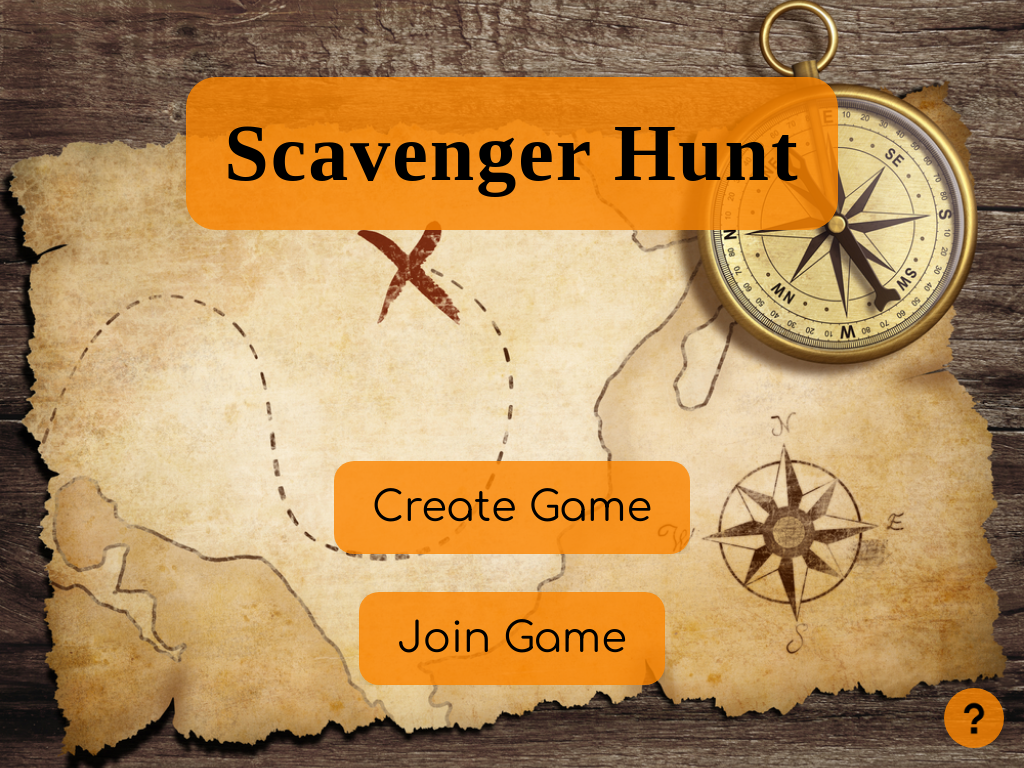
it: Test Home Page Screen › displays rules popup when question button is clicked
The image size is (1024, 768).
Expected: the text "Game Rules" is not shown
Click the button with alt text "rule_icon": (974, 718) [944,688,1004,748]
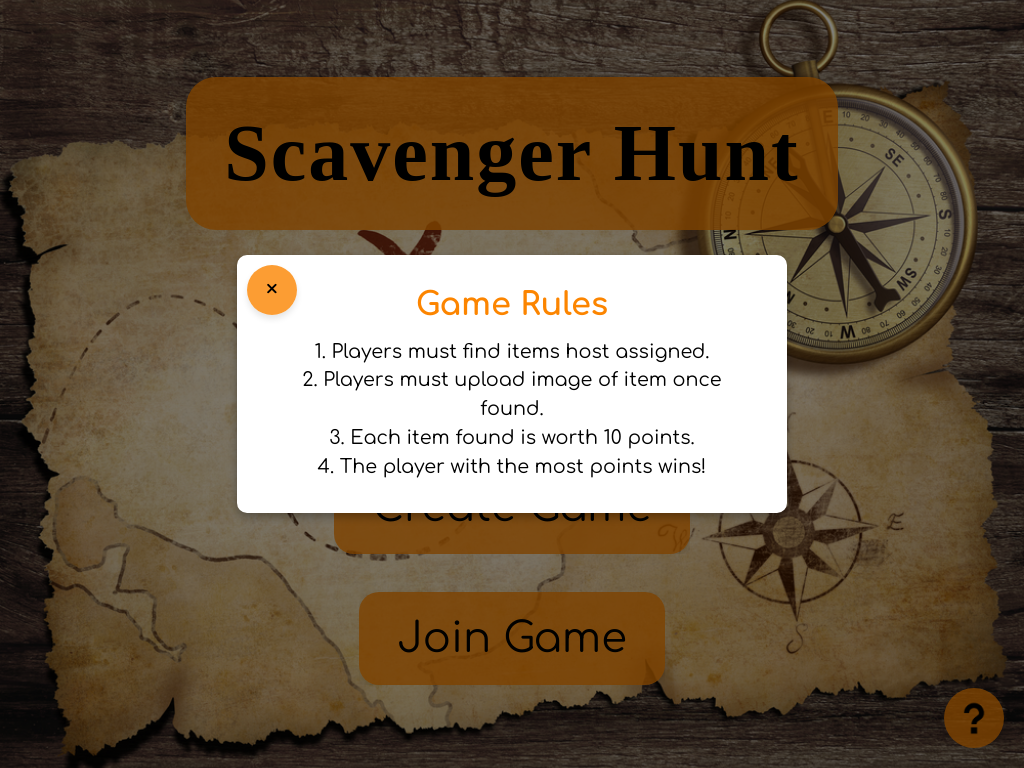
Expected: the heading "Game Rules" is shown, [416,286,608,322]
